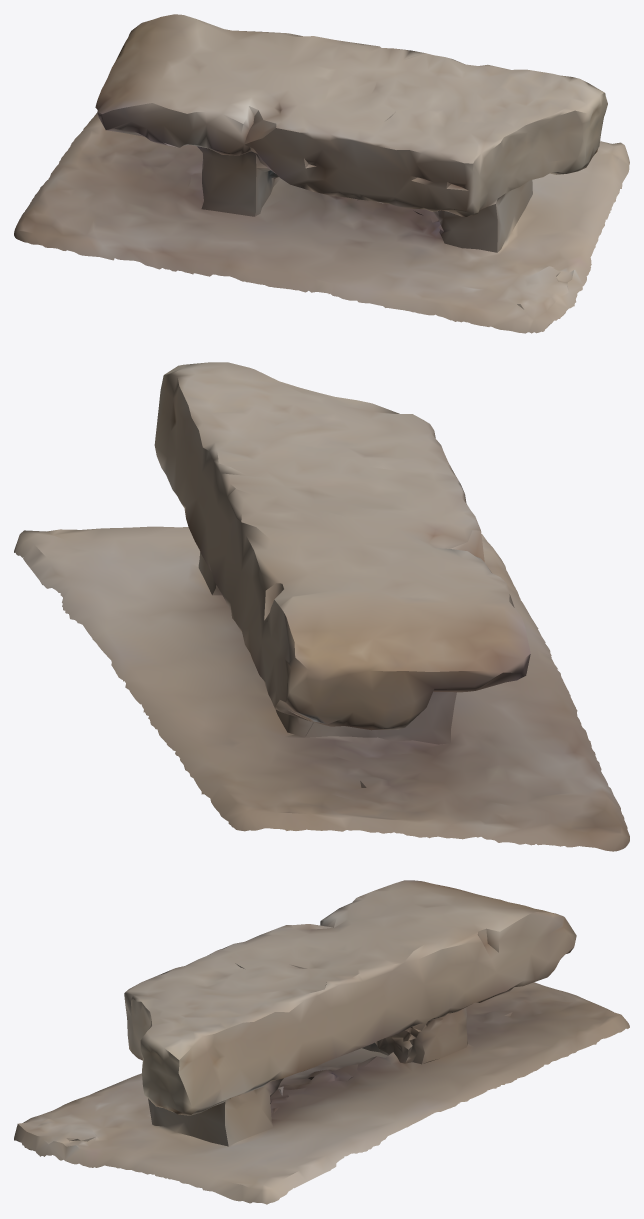
Rendered from table.glb.
3 renders of one model, top to bottom at view 1: azimuth 30°, elevation 25°; view 2: azimuth 150°, elevation 25°; view 3: azimuth 270°, elevation 25°, orthographic. The views are drawn at different scales.
Visible parts, largest first — view 1: Object_2; view 2: Object_2; view 3: Object_2.
Boxes of the visible parts, x1,y1,x2,y2 form: Object_2: (14,14,629,333); Object_2: (14,362,629,851); Object_2: (14,880,629,1204).
Size of the model in its own units: 12.69 by 3.83 by 12.49.
